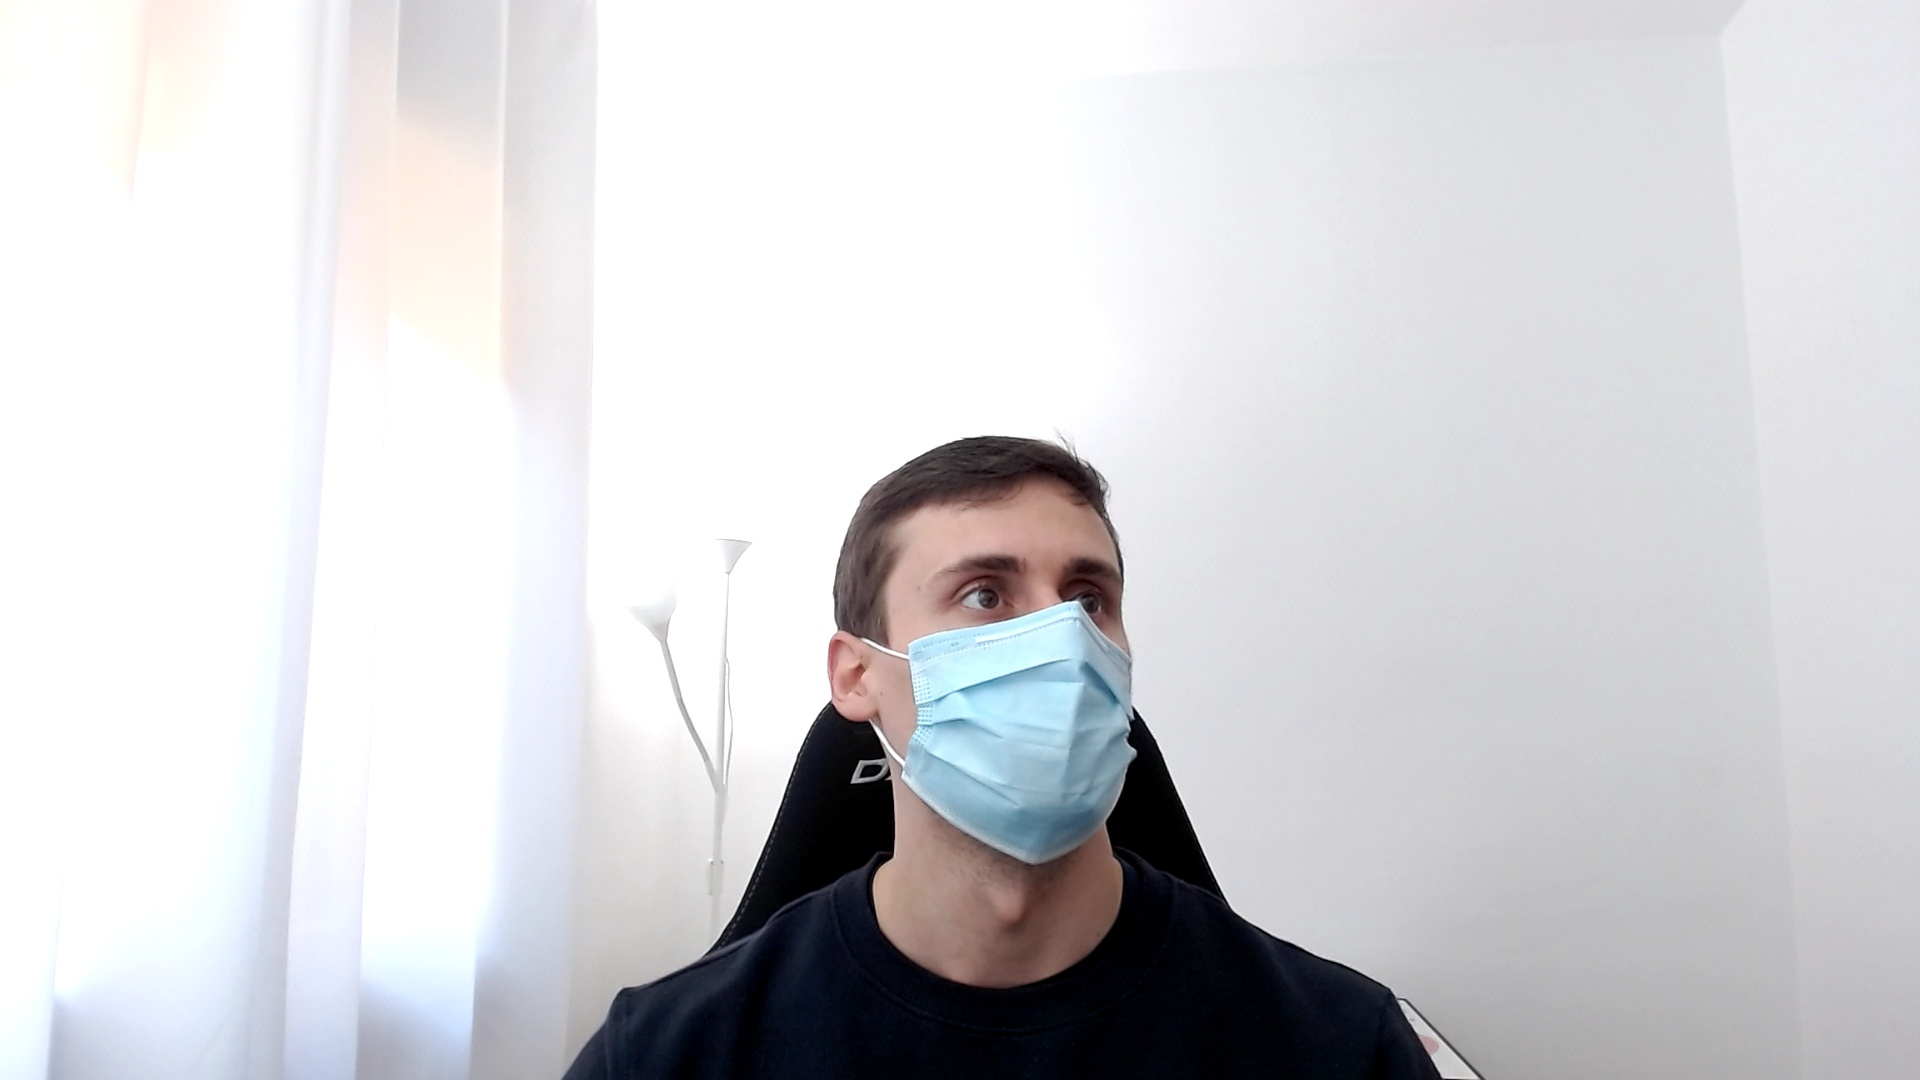Mask: (829, 438, 1137, 869)
